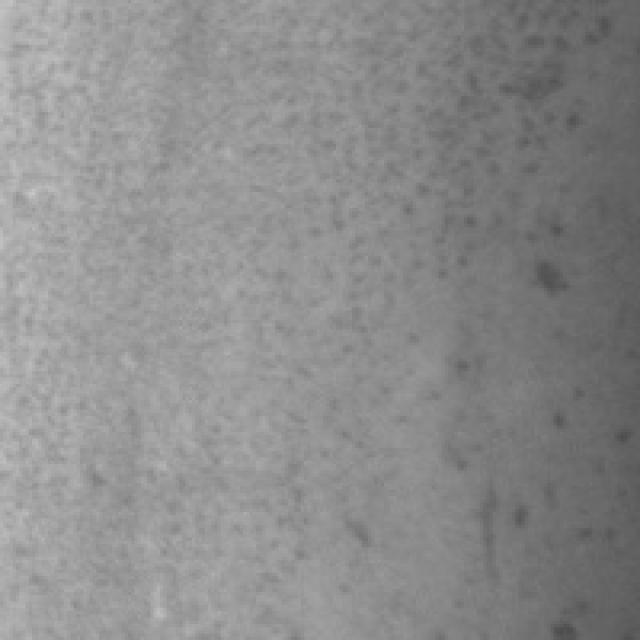pitted_surface: (0, 0, 387, 554), (393, 0, 618, 637)
